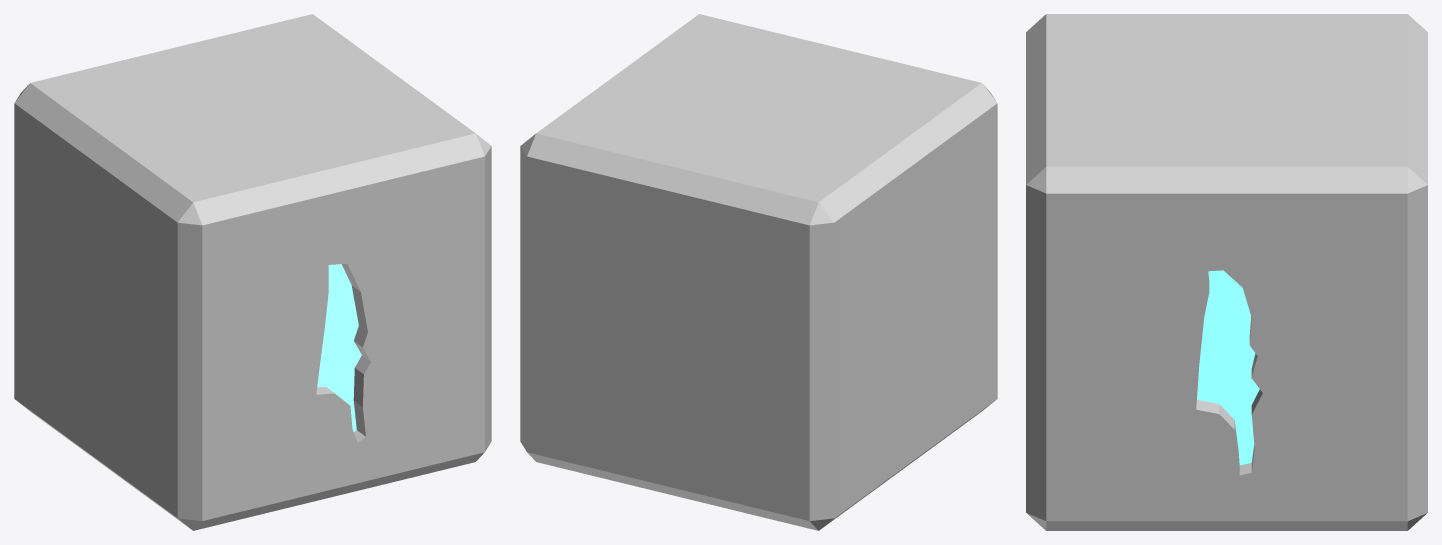
File: Kupbicak.fbx
3 renders of one model, left to right at view 1: azimuth 30°, elevation 25°; view 2: azimuth 150°, elevation 25°; view 3: azimuth 270°, elevation 25°, orthographic. The views are drawn at different scales.
Parts seen in each view (by area): view 1: Cube.006; view 2: Cube.006; view 3: Cube.006.
Boxes of the visible parts, bbox=[...] form: Cube.006: bbox=[14, 14, 491, 530]; Cube.006: bbox=[520, 14, 997, 530]; Cube.006: bbox=[1026, 14, 1427, 530].
Bounding box in the file's own units: 119 × 119 × 119.
